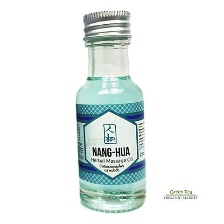bottle: (68, 5, 152, 216)
